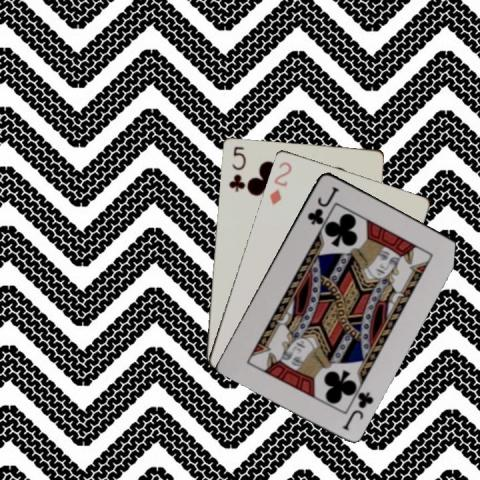2d: (266, 158, 293, 206)
5c: (226, 143, 246, 193)
Jc: (339, 388, 375, 431), (304, 183, 339, 226)
